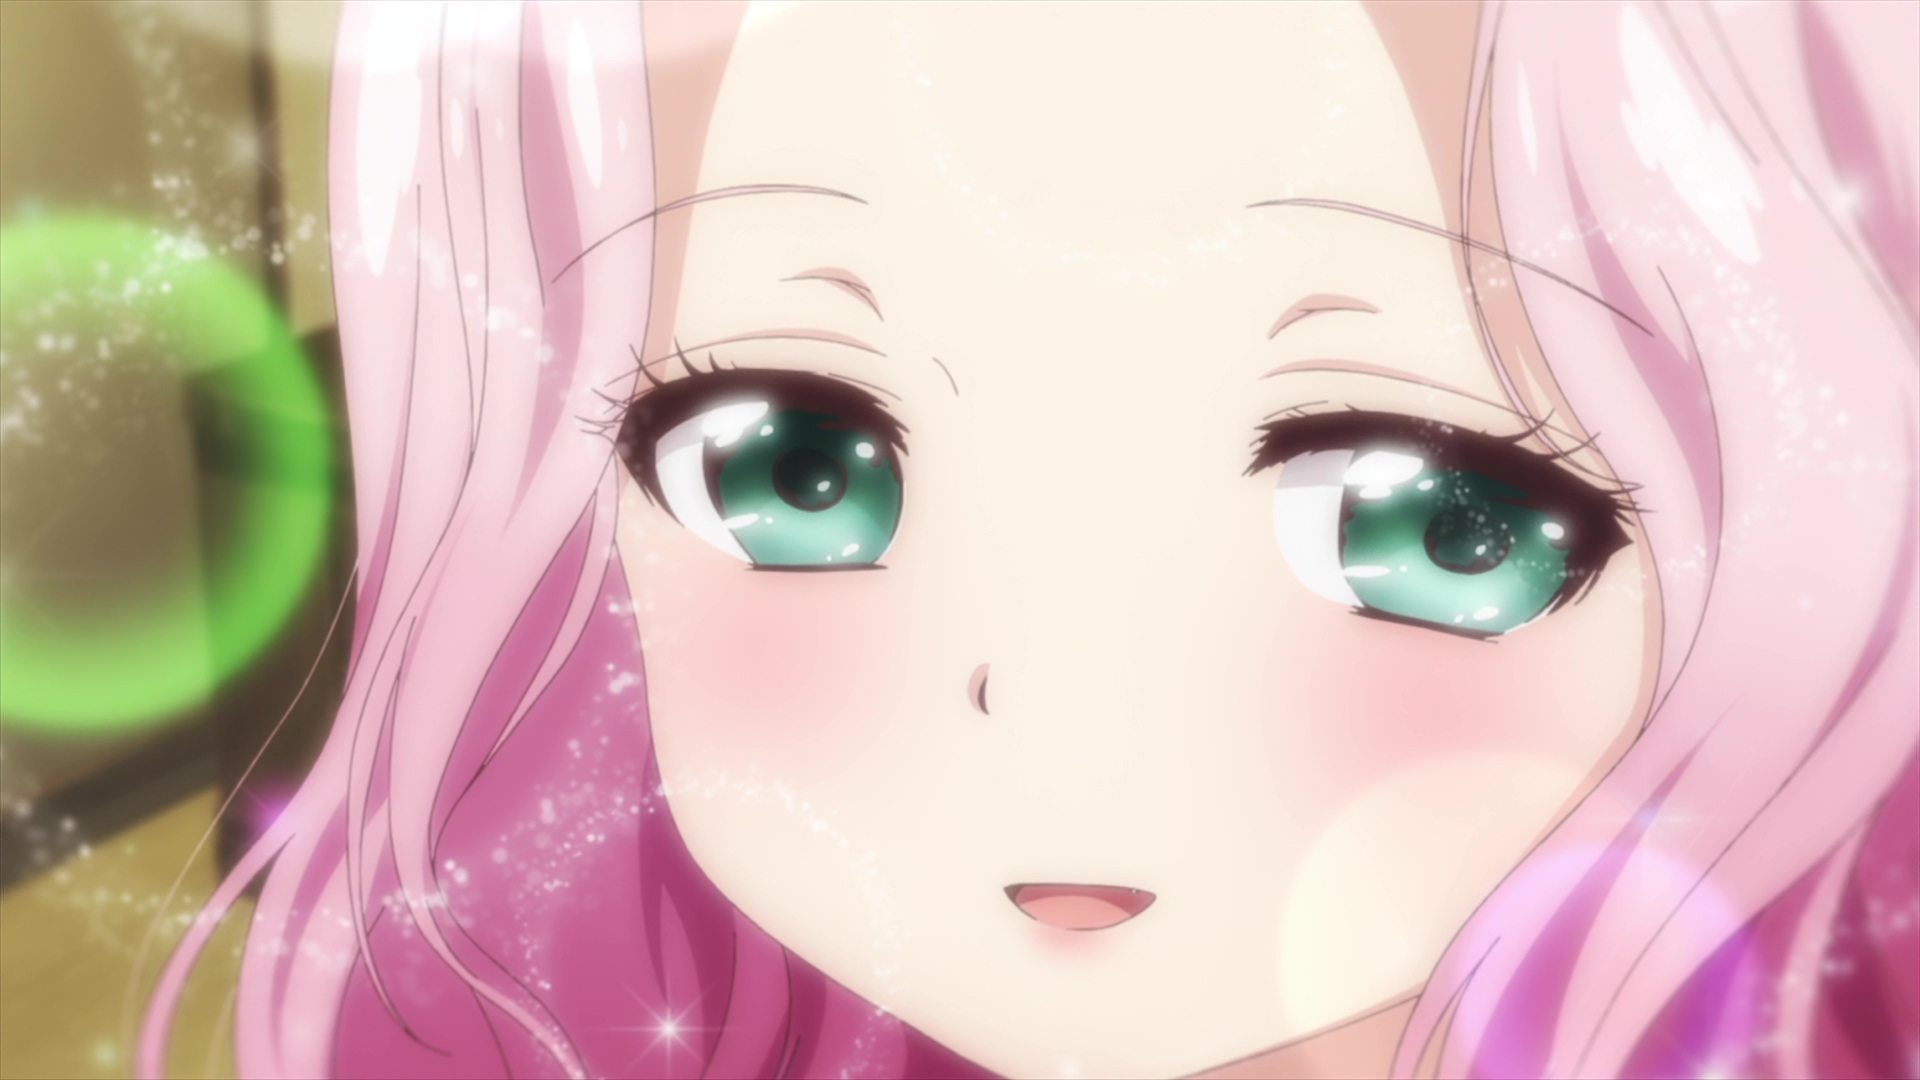莲: (131, 1, 1920, 1080)
